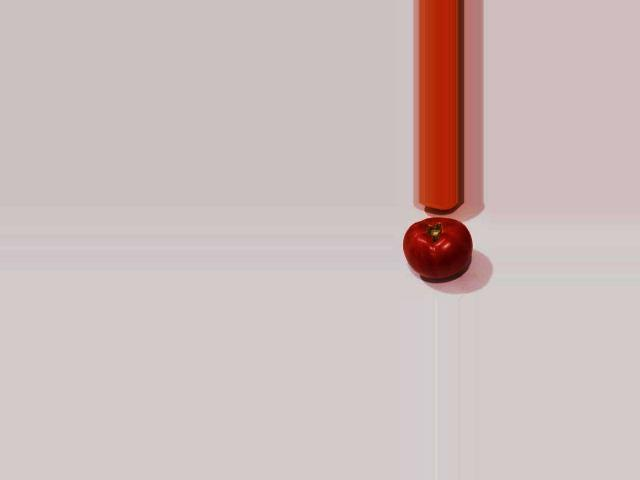tomato: (402, 218, 471, 278)
